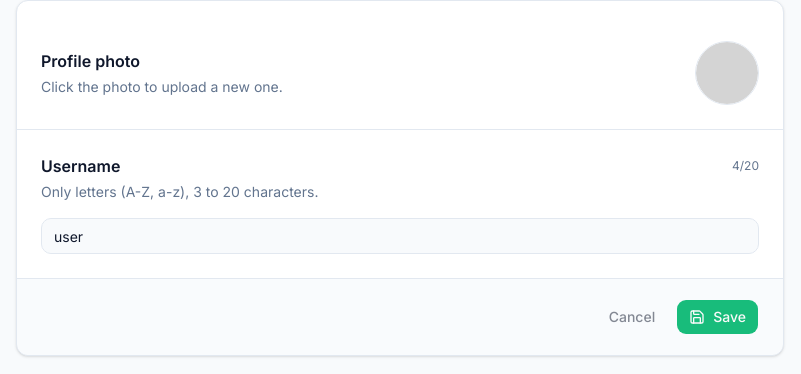
Test case: ProfileCard › should truncate input exceeding the maximum length of 20 characters
The image size is (801, 374).
Replace the text in the field labelled "Username" with "abcdefghijklmnopqrstuvwxyz": (400, 236) x1=41 y1=218 x2=759 y2=254
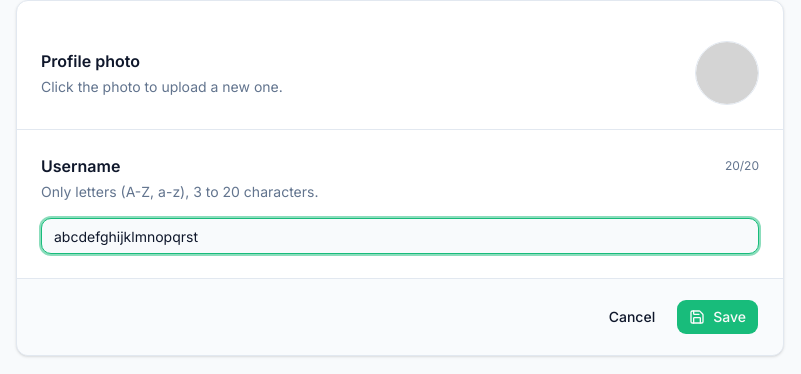
Expected: the field labelled "Username" holds "abcdefghijklmnopqrst", x1=41 y1=218 x2=759 y2=254
Expected: the text "20/20" is shown, x1=725 y1=158 x2=759 y2=174
